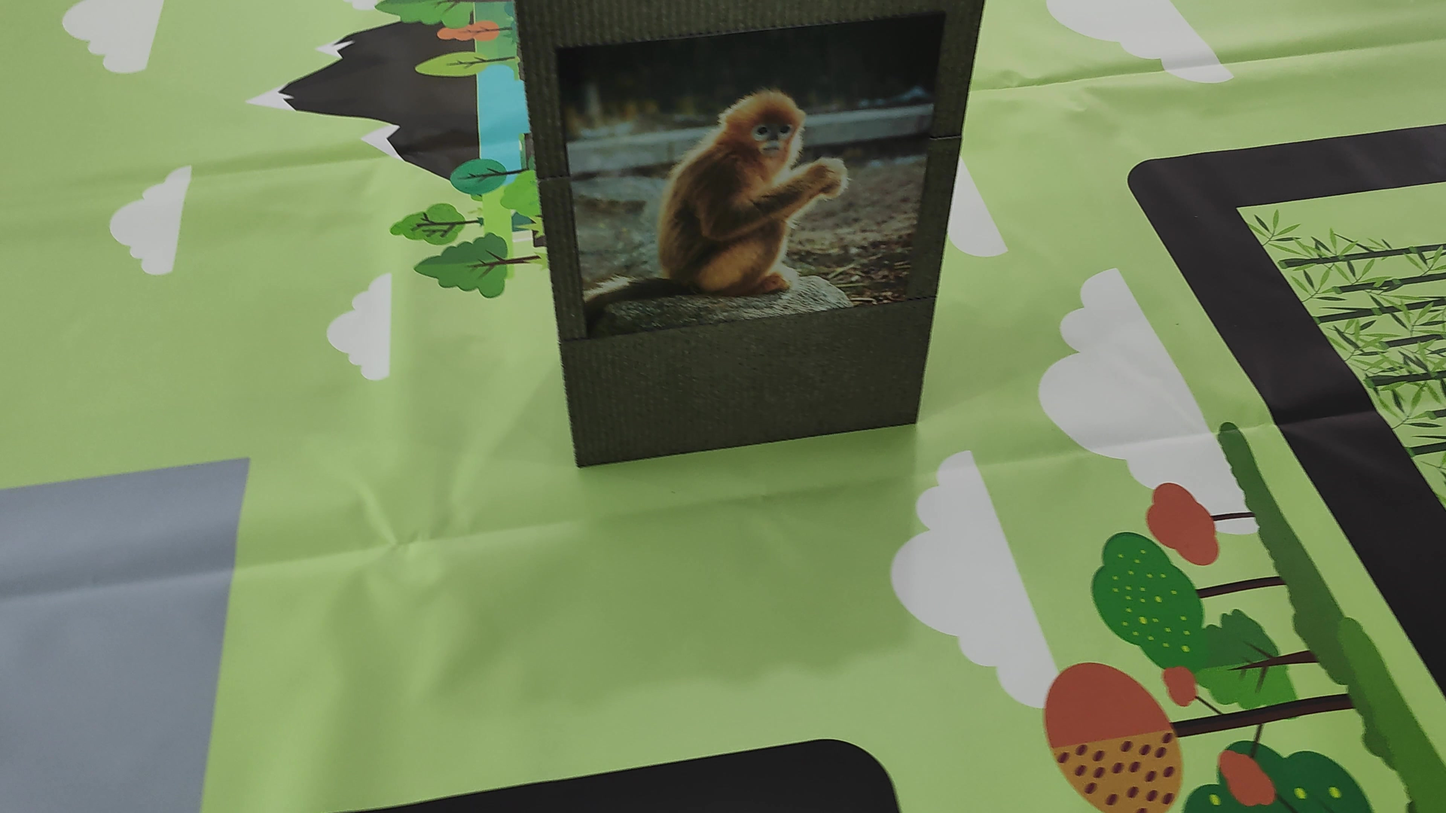monkey: (658, 69, 853, 317)
